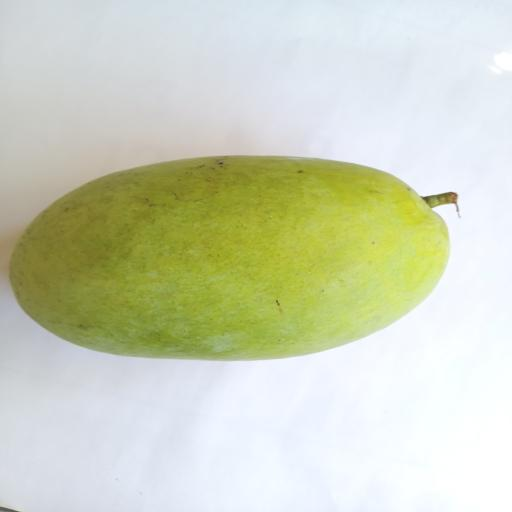mango-unripe: (2, 153, 486, 367)
